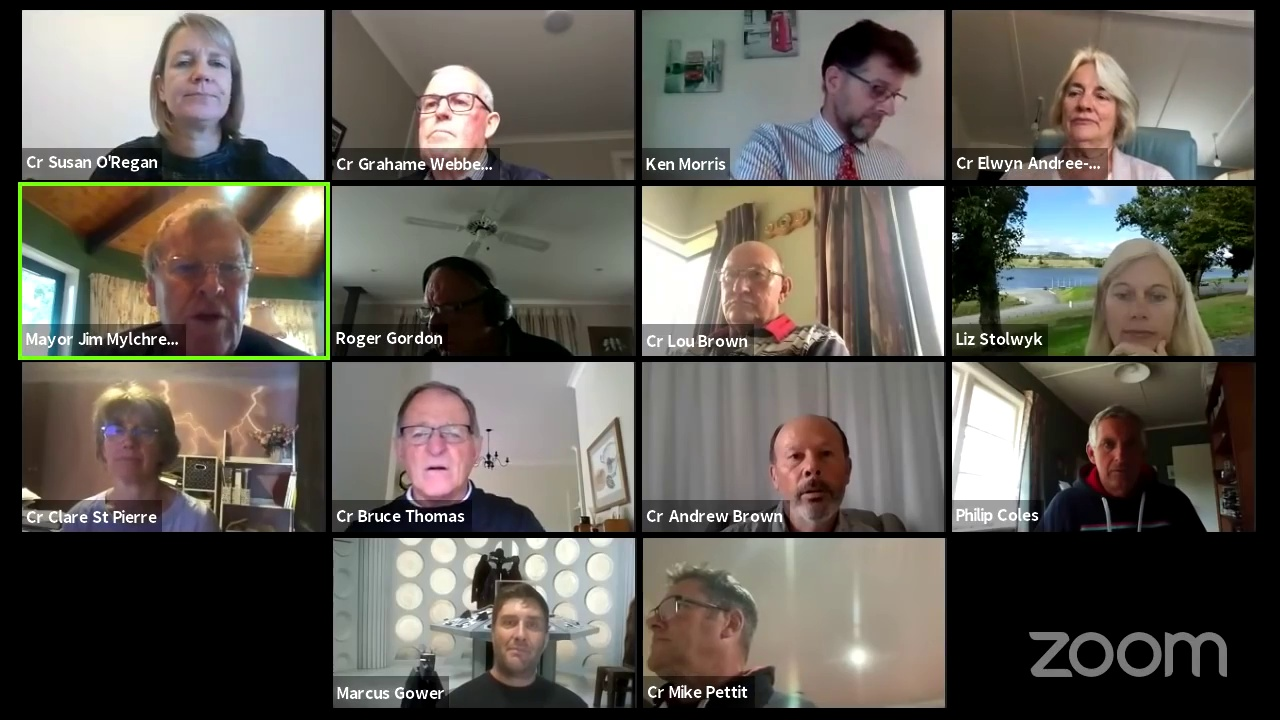Distracted: (642, 566, 753, 682), (404, 258, 511, 350), (829, 29, 902, 137), (1060, 62, 1125, 139)
Not Distracted: (148, 208, 263, 357), (763, 414, 869, 523), (389, 383, 488, 498), (152, 15, 244, 130), (88, 380, 184, 487), (413, 64, 495, 166), (1101, 255, 1189, 347), (713, 241, 793, 328), (1083, 405, 1158, 487), (484, 592, 556, 670)
